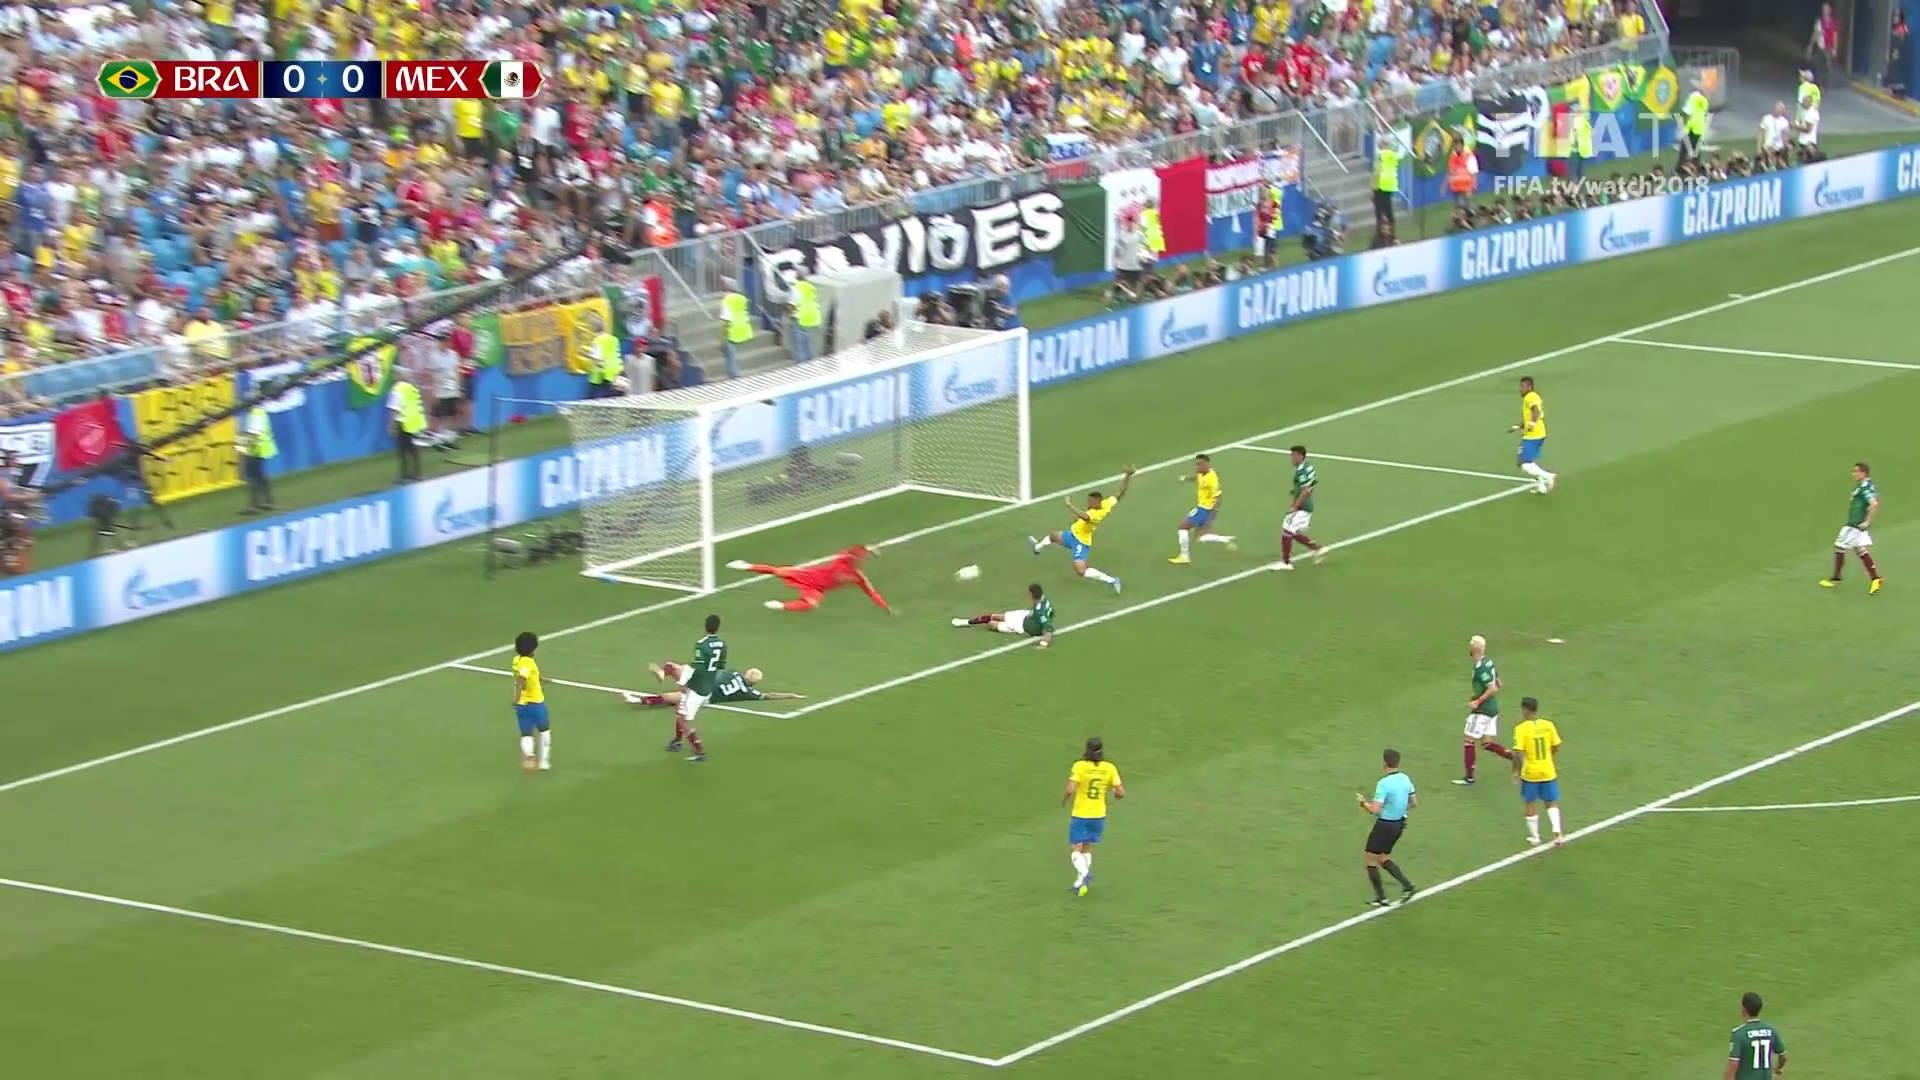ball: (958, 565, 979, 579)
person: (1025, 463, 1131, 595), (726, 543, 892, 611), (1064, 737, 1120, 898), (1819, 465, 1884, 586), (1169, 452, 1238, 561), (1461, 632, 1511, 782), (1515, 697, 1565, 840), (638, 661, 796, 705), (954, 583, 1057, 646), (678, 620, 721, 768), (505, 632, 553, 765), (1278, 443, 1326, 567), (1723, 993, 1789, 1080), (1509, 380, 1553, 490)
